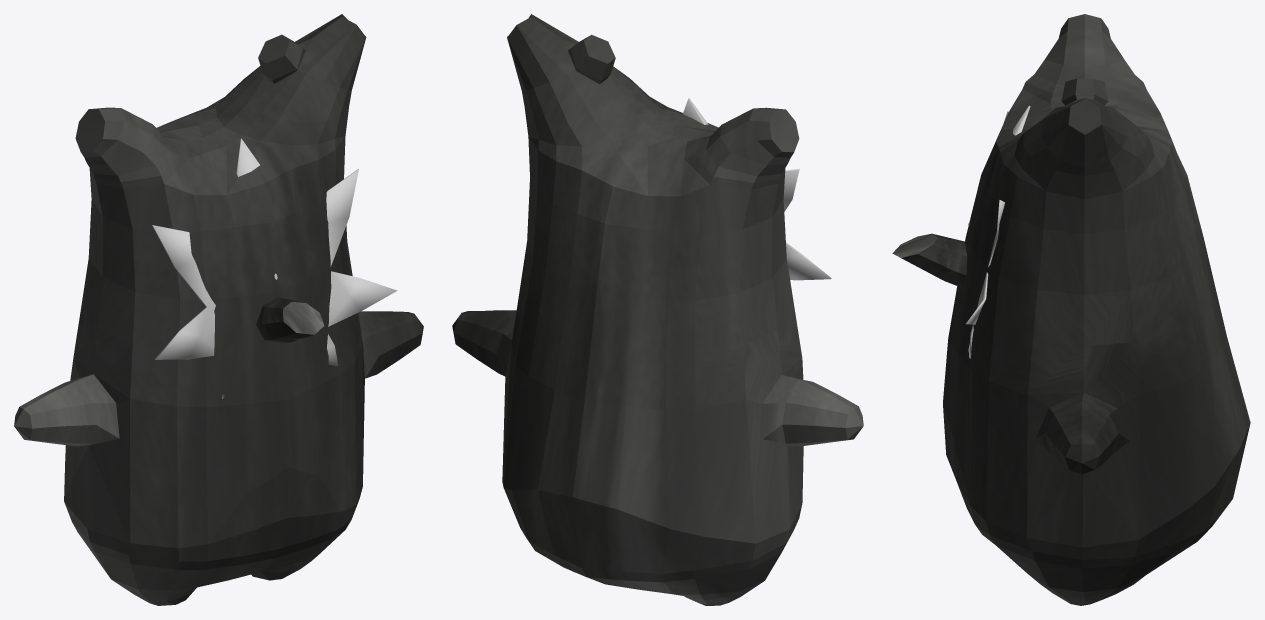
The model's file is frame_0039.obj.
3 renders of one model, left to right at view 1: azimuth 30°, elevation 25°; view 2: azimuth 150°, elevation 25°; view 3: azimuth 270°, elevation 25°, orthographic.
Visible parts, largest first — view 1: korok, leaf.003_柱体.013, nose.003_柱体.011; view 2: korok, leaf.003_柱体.013; view 3: korok, nose.003_柱体.011, leaf.003_柱体.013.
Part boxes in pixels (bbox=[...]): korok: bbox=[14, 14, 423, 605]; leaf.003_柱体.013: bbox=[152, 138, 397, 398]; nose.003_柱体.011: bbox=[256, 297, 324, 342]; korok: bbox=[452, 14, 863, 605]; leaf.003_柱体.013: bbox=[683, 98, 831, 280]; korok: bbox=[943, 14, 1250, 605]; nose.003_柱体.011: bbox=[892, 233, 967, 287]; leaf.003_柱体.013: bbox=[966, 105, 1030, 358].
Bounding box in the file's own units: 1.78 × 2.25 × 1.36.
